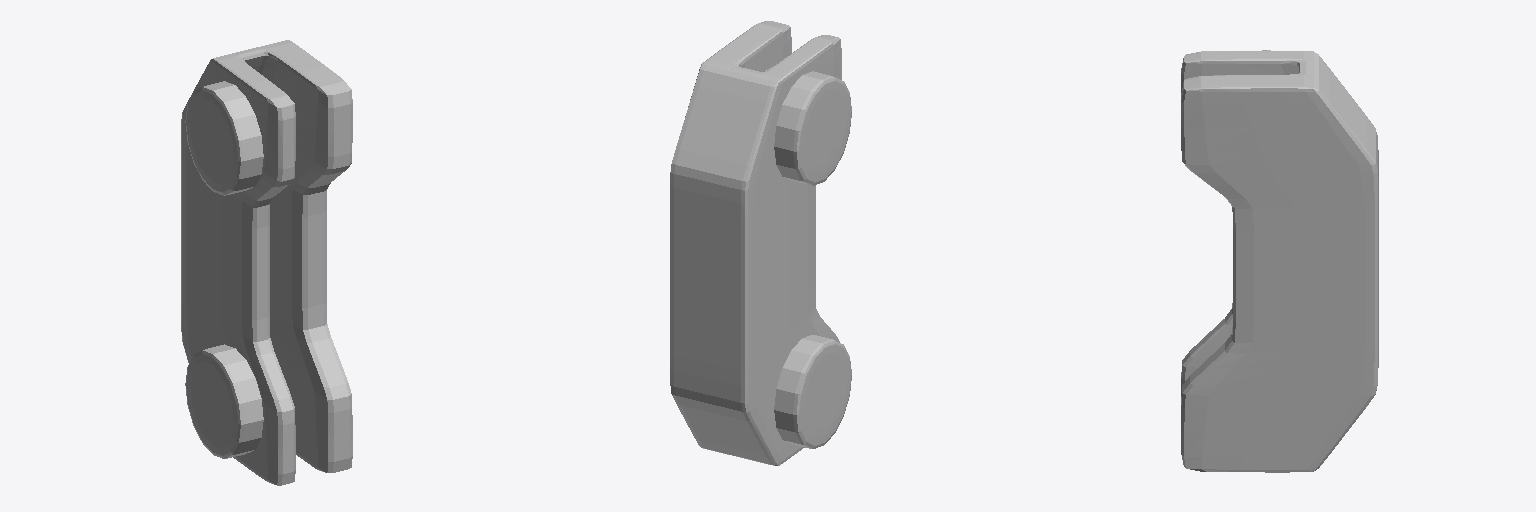
Rendered from SuspensionLT_Aston_Martin_DB9.obj.
3 views of the same model, side by side, from view 1: azimuth 30°, elevation 25°; view 2: azimuth 150°, elevation 25°; view 3: azimuth 270°, elevation 25° (orthographic).
Visible parts, largest first — view 1: Object_#5.001_Object_#5.002; view 2: Object_#5.001_Object_#5.002; view 3: Object_#5.001_Object_#5.002.
Boxes of the visible parts, <box> form: Object_#5.001_Object_#5.002: <box>181,40,352,485</box>; Object_#5.001_Object_#5.002: <box>670,21,851,465</box>; Object_#5.001_Object_#5.002: <box>1181,50,1378,472</box>.
Size of the model in its own units: 0.0629 by 0.2286 by 0.1059.